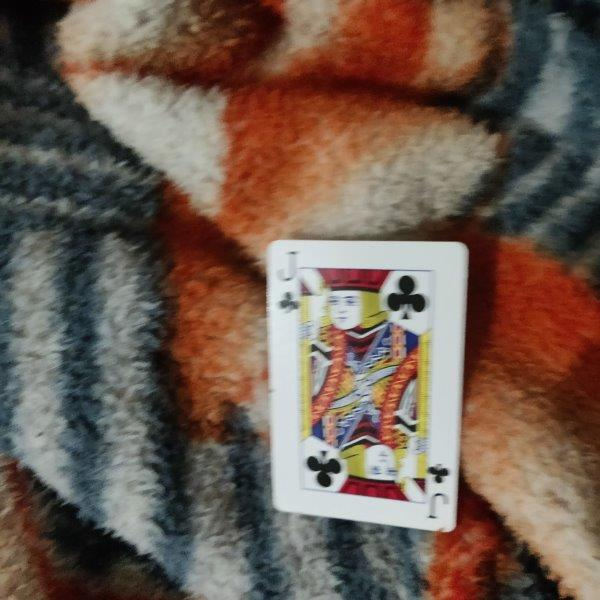Jack of Clubs: (266, 240, 469, 532)
